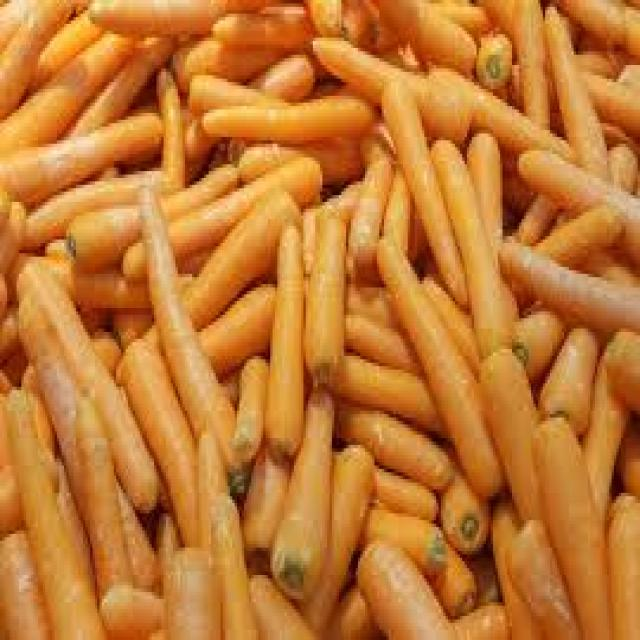Carrot: (269, 225, 301, 465), (195, 102, 376, 138)
